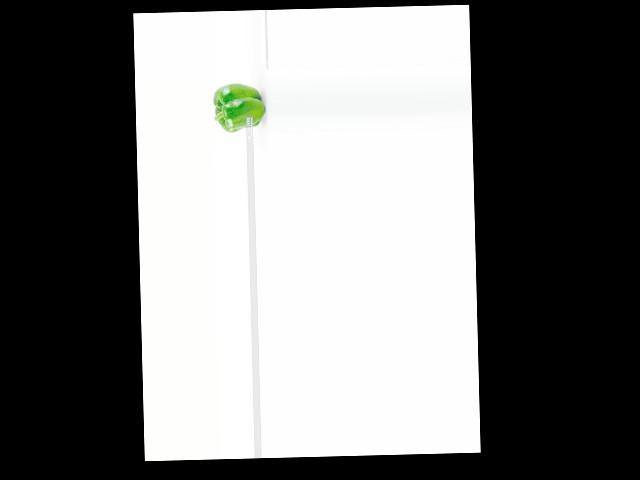bell_pepper: (210, 80, 267, 132)
